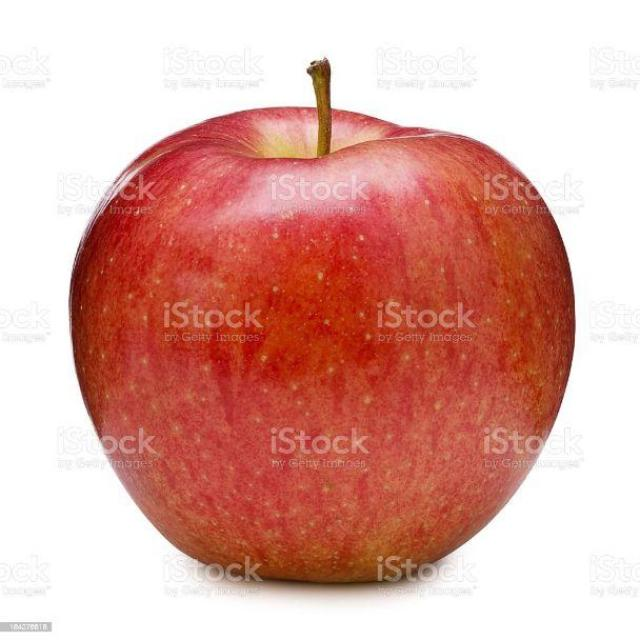Rotten Apple: (66, 62, 582, 598)
